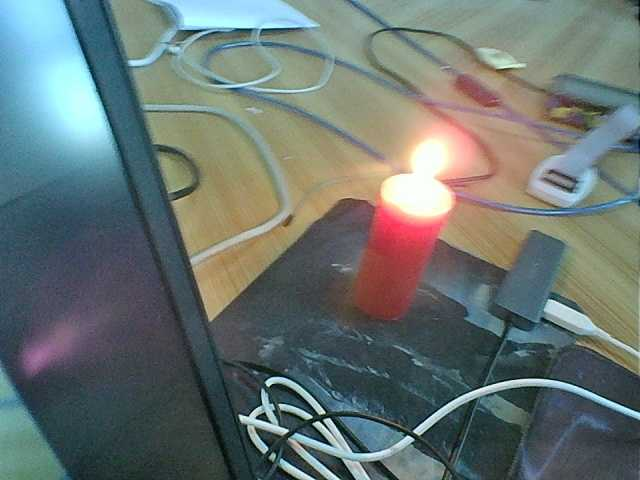candle: (375, 198, 435, 329)
fire: (394, 135, 456, 200)
